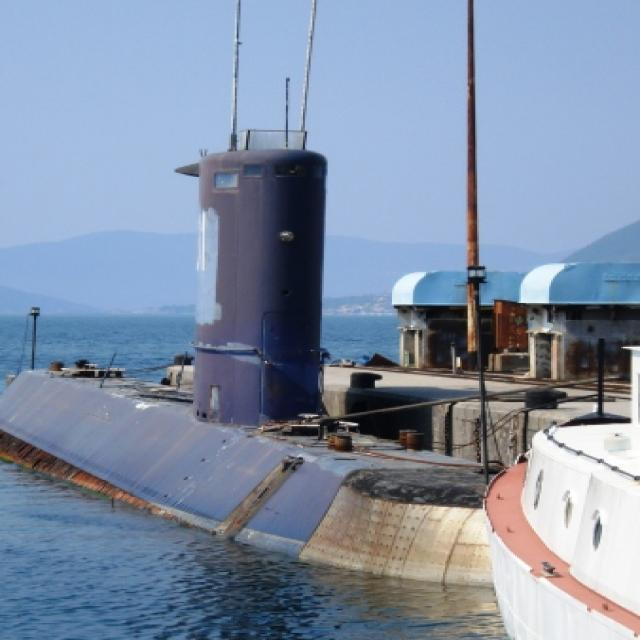submarine: (1, 153, 507, 587)
